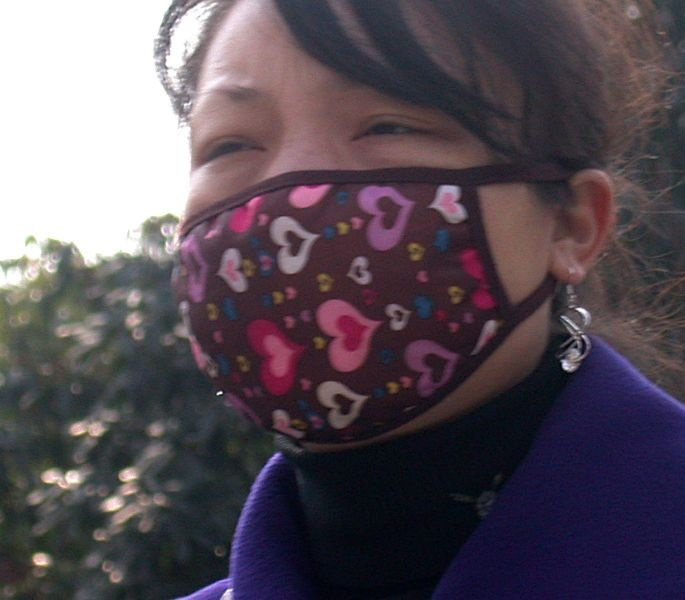face_mask: (185, 1, 529, 436)
